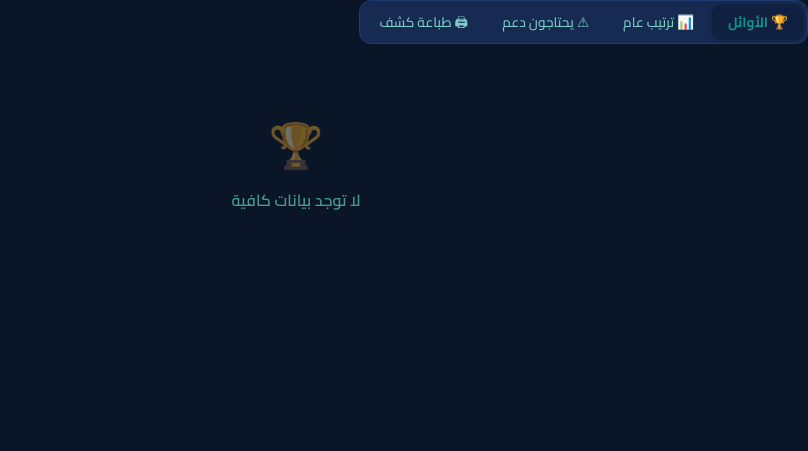
Test case: ExamReports (print tab, "بالطالب" mode) — group-scoped student selector is now searchable › searching by student code returns the matching student
Click the button "🖨 طباعة كشف" at (424,22), box [364, 4, 484, 40]
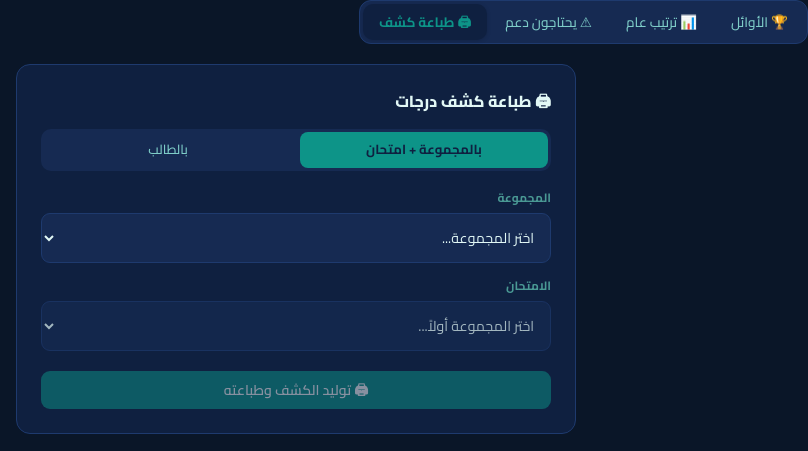
Click the button "بالطالب" at (168,150), box [44, 132, 292, 168]
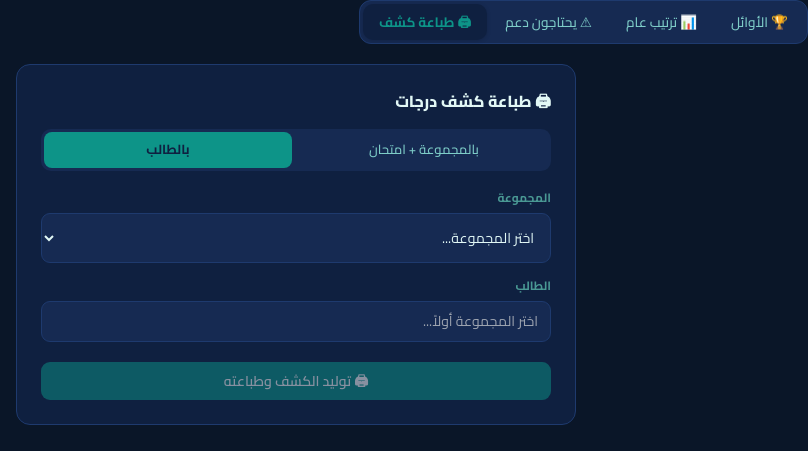
Select "مجموعة أ — الأول الثانوي" in the 1st dropdown at (296,238), box [41, 213, 551, 263]
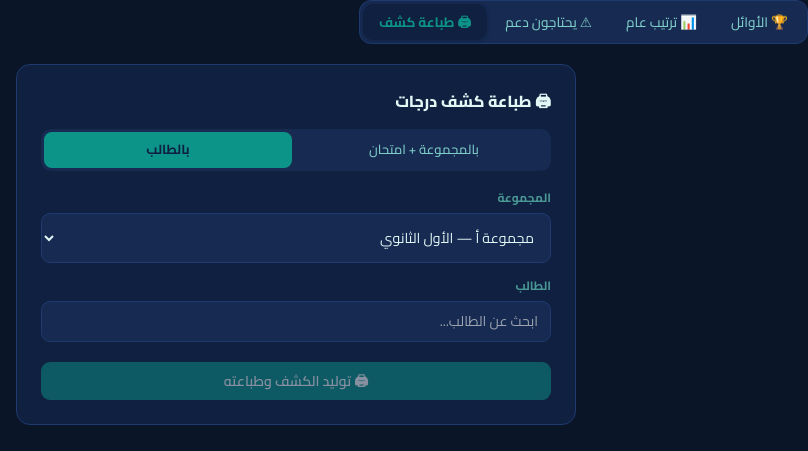
Type "C002" into the dropdown with placeholder "ابحث عن الطالب..." at (296,322), box [41, 301, 551, 342]
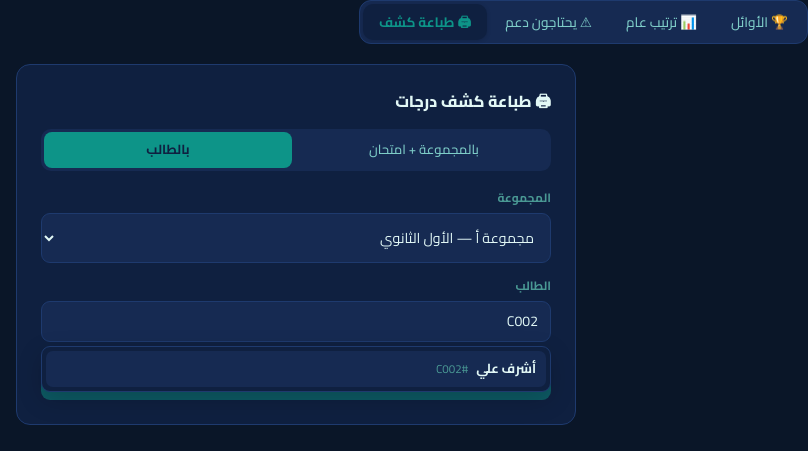
Check: the number of options is 1, box [46, 351, 546, 387]
